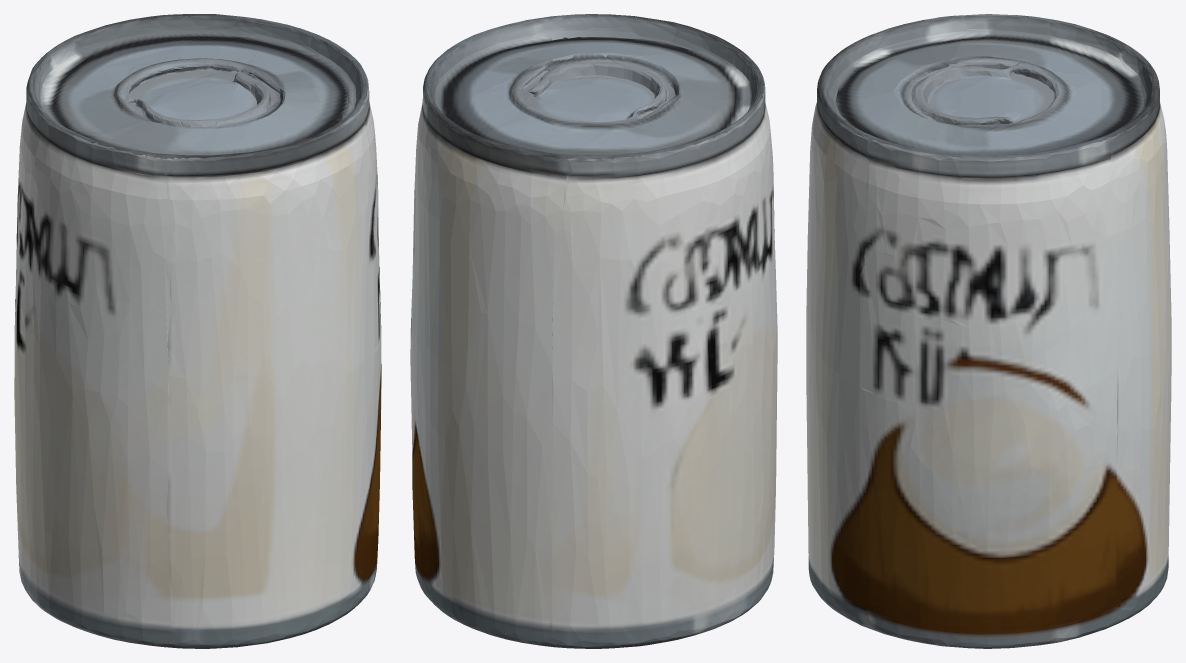
The model's file is coconut.glb.
The picture shows the model from 3 angles, left to right: view 1: azimuth 30°, elevation 25°; view 2: azimuth 150°, elevation 25°; view 3: azimuth 270°, elevation 25°; orthographic projection.
Visible parts, largest first — view 1: world; view 2: world; view 3: world.
Part boxes in pixels (left/top/right/bottom): world: left=14, top=14, right=381, bottom=648; world: left=410, top=14, right=777, bottom=648; world: left=806, top=14, right=1171, bottom=648.
Size of the model in its own units: 0.6767 by 1 by 0.6759.
Materials: 1 (1 with a texture image).
